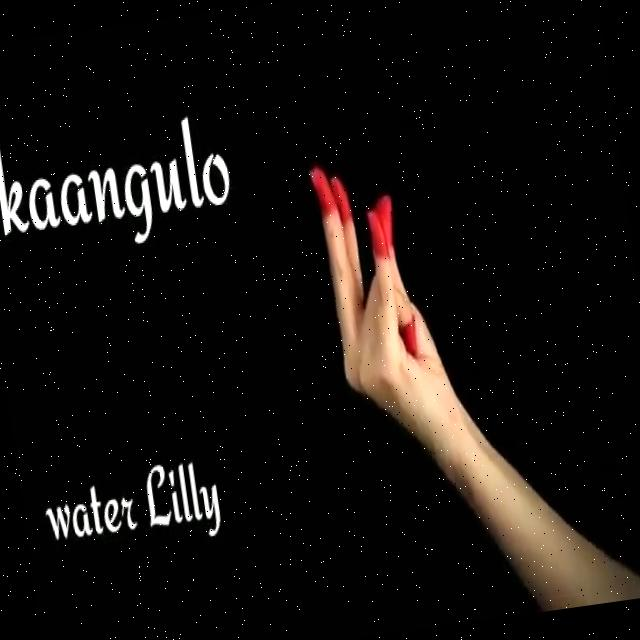Kangula: (295, 136, 463, 447)
text: (0, 99, 246, 271), (32, 442, 236, 564)
